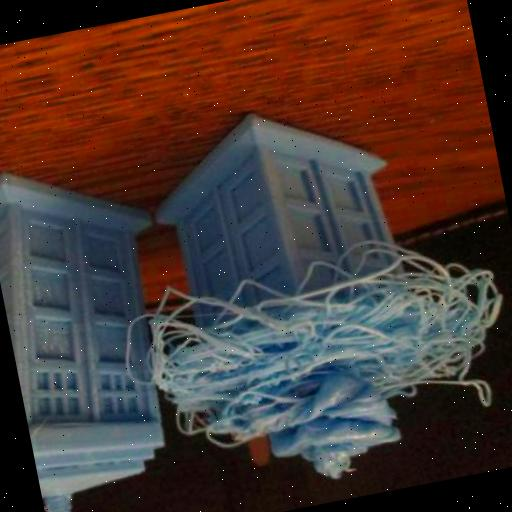spaghetti: (105, 210, 512, 512)
